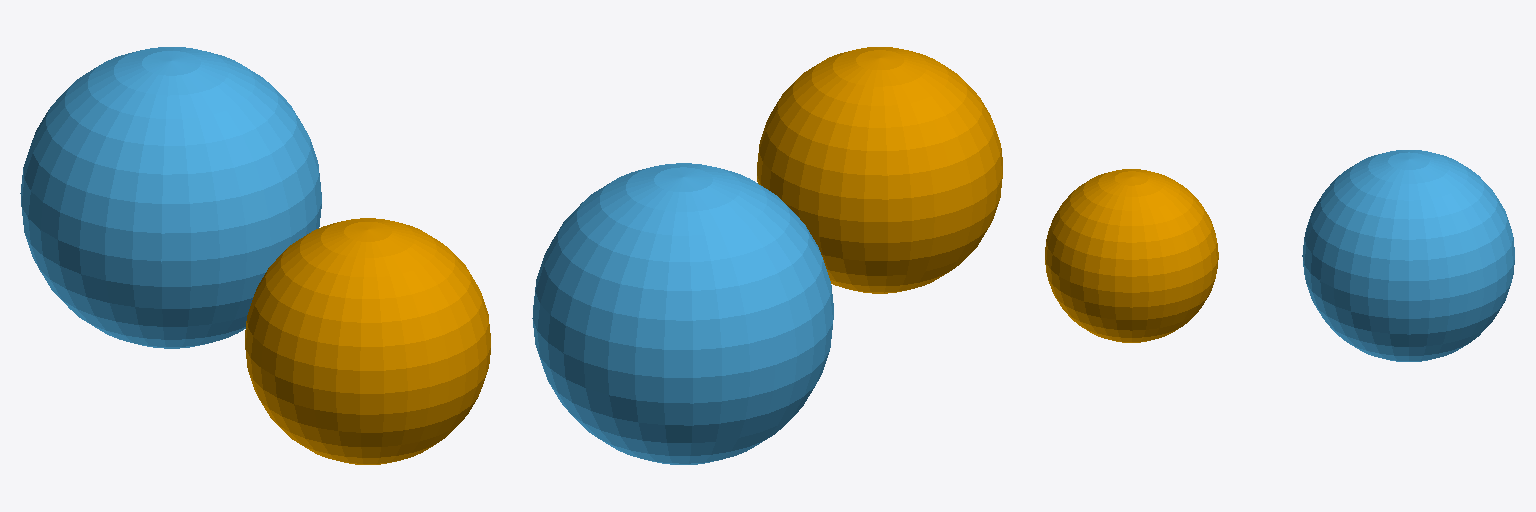
URDF robot description (dumpUrdf):
<robot name="dumpUrdf">
	<link name="torso" >
		<inertial>
				<origin rpy = "0 0 0" xyz = "0.000000 0.280000 0.000000" />
			 <mass value = "6.000000" />
			<inertia ixx="0.31104" ixy="0" ixz="0" iyy="0.31104" iyz="0" izz="0.31104"/>
		</inertial>
			<visual>
				<origin rpy = "0 0 0" xyz = "0.000000 0.280000 0.000000" />
			<geometry>
				<sphere radius = "0.360000" />
			</geometry>
		</visual>
		<collision>
				<origin rpy = "0 0 0" xyz = "0.000000 0.280000 0.000000" />
			<geometry>
				<sphere radius = "0.360000" />
			</geometry>
		</collision>
	</link>
	<link name="chest" >
		<inertial>
				<origin rpy = "0 0 0" xyz = "0.000000 0.480000 0.000000" />
			 <mass value = "14.000000" />
			<inertia ixx="1.08416" ixy="0" ixz="0" iyy="1.08416" iyz="0" izz="1.08416"/>
		</inertial>
		<visual>
				<origin rpy = "0 0 0" xyz = "0.000000 0.480000 0.000000" />
			<geometry>
				<sphere radius = "0.440000" />
			</geometry>
		</visual>
		<collision>
				<origin rpy = "0 0 0" xyz = "0.000000 0.480000 0.000000" />
			<geometry>
				<sphere radius = "0.440000" />
			</geometry>
		</collision>
	</link>
	<joint name="chest" type="fixed" >
		<parent link="torso" />
		<child link="chest" />
		<origin rpy = "0 0 0" xyz = "0.000000 0.944604 0.000000" />
		<axis xyz="1 0 0"/>
	</joint>
	
	<link name="right_shoulder" >
		<inertial>
				<origin rpy = "0 0 0" xyz = "0.000000 -0.560000 0.000000" />
			 <mass value = "1.500000" />
			<inertia ixx="0.16272" ixy="0" ixz="0" iyy="0.03276" iyz="0" izz="0.16272"/>
		</inertial>
		<visual>
				<origin rpy = "-1.570796 0 0" xyz = "0.000000 -0.560000 0.000000" />
			<geometry>
				<capsule length="0.720000" radius="0.180000"/>
			</geometry>
		</visual>
		<collision>
				<origin rpy = "-1.570796 0 0" xyz = "0.000000 -0.560000 0.000000" />
			<geometry>
				<capsule length="0.720000" radius="0.180000"/>
			</geometry>
		</collision>
	</link>
	<joint name="right_shoulder" type="fixed" >
		<parent link="chest" />
		<child link="right_shoulder" />
		<origin rpy = "0 0 0" xyz = "-0.096200 0.974000 0.732440" />
		<axis xyz="1 0 0"/>
	</joint>
	<link name="right_elbow" >
		<inertial>
				<origin rpy = "0 0 0" xyz = "0.000000 -0.480000 0.000000" />
			 <mass value = "1.000000" />
			<inertia ixx="0.07056" ixy="0" ixz="0" iyy="0.01728" iyz="0" izz="0.07056"/>
		</inertial>
		<visual>
				<origin rpy = "-1.570796 0 0" xyz = "0.000000 -0.480000 0.000000" />
			<geometry>
				<capsule length="0.540000" radius="0.160000"/>
			</geometry>
		</visual>
		<collision>
				<origin rpy = "-1.570796 0 0" xyz = "0.000000 -0.480000 0.000000" />
			<geometry>
				<capsule length="0.540000" radius="0.160000"/>
			</geometry>
		</collision>
	</link>
	<joint name="right_elbow" type="fixed" >
		<parent link="right_shoulder" />
		<child link="right_elbow" />
		<limit effort="1000.0" lower="0" upper="3.14" velocity="0.5"/>
		<origin rpy = "0 0 0" xyz = "0.000000 -1.099152 0.000000" />
		<axis xyz = "0.000000 0.000000 1.000000" />
	</joint>
</robot>

--- Facts derived from the render (not from the file) ---
The picture shows the robot from 3 angles, left to right: view 1: azimuth 30°, elevation 25°; view 2: azimuth 150°, elevation 25°; view 3: azimuth 270°, elevation 25°; orthographic projection.
Robot: dumpUrdf — 4 links, 3 joints (3 fixed); root link torso; default pose: every joint at zero.
Visible links, largest first — view 1: chest, torso; view 2: chest, torso; view 3: chest, torso.
Boxes of the visible links, x1,y1,x2,y2 form: chest: (20, 47, 321, 348); torso: (245, 218, 490, 464); chest: (532, 163, 833, 464); torso: (757, 47, 1002, 293); chest: (1302, 150, 1514, 361); torso: (1045, 169, 1218, 342).
Size in the robot's own frame: 0.88 by 1.94 by 0.88 metres.
Geometry: primitives only (box / cylinder / sphere), no mesh files.